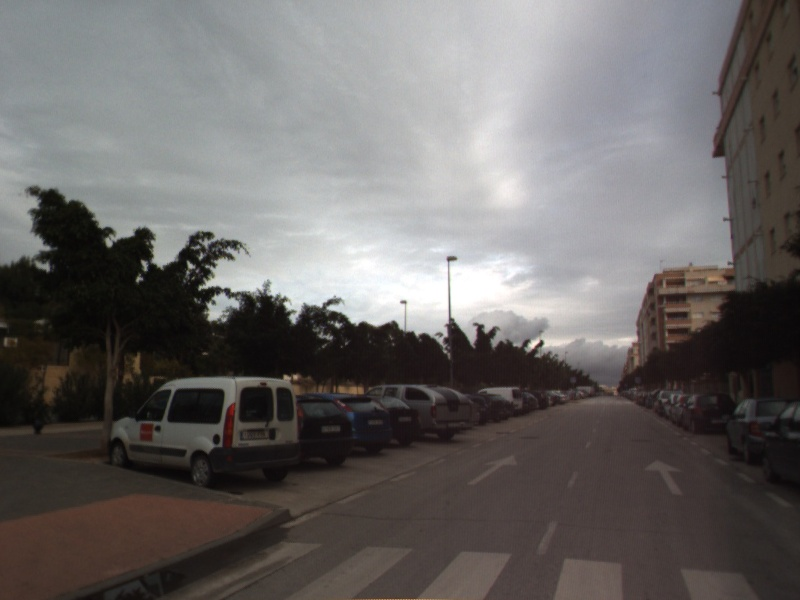STRAIGHT: (465, 453, 520, 487), (642, 457, 686, 497)
